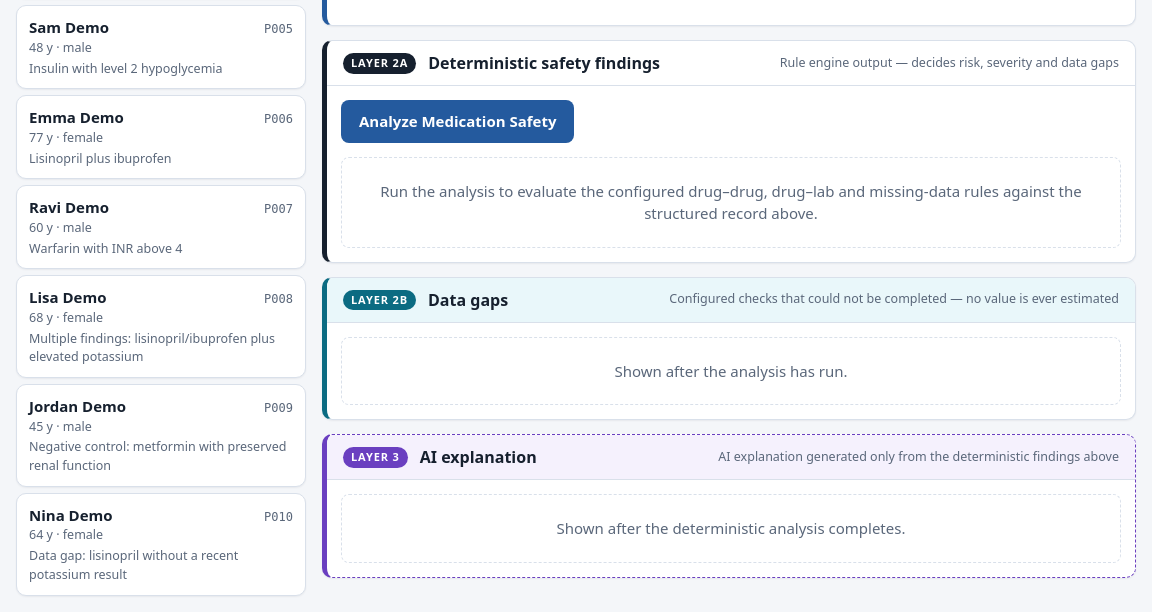
it: analysis › P008: two findings, HIGH grouped before MODERATE, with full provenance fields
The image size is (1152, 612).
(page scrolled)
Click the button "Lisa Demo": [161, 327] box [16, 275, 306, 378]
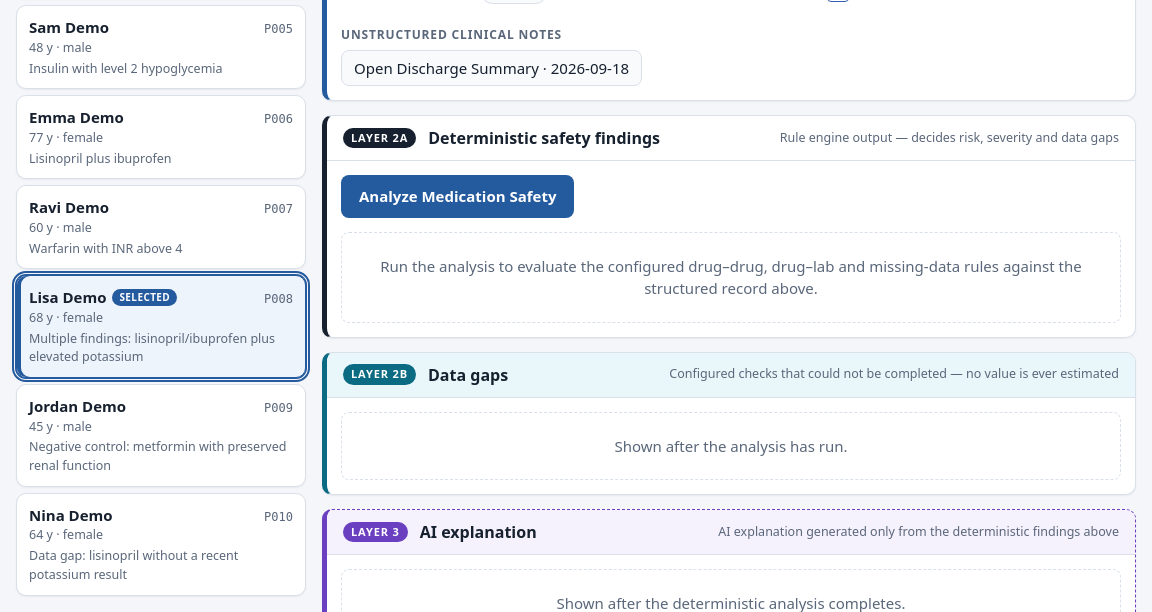
Click the button "Analyze Medication Safety": [458, 196] box [341, 175, 574, 218]
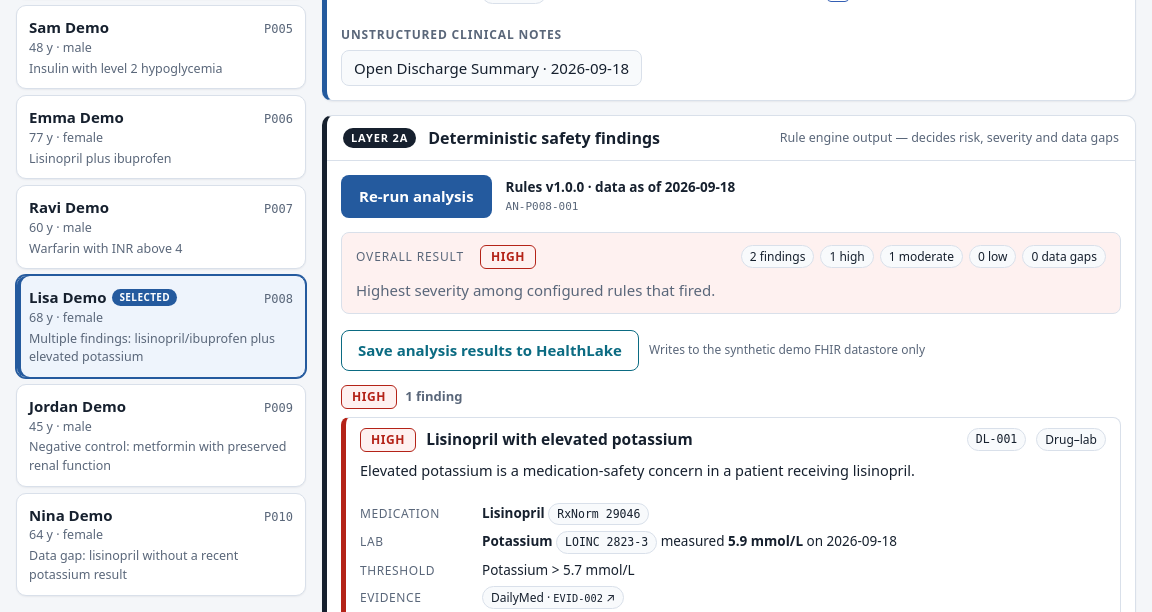
Result: the element named "HIGH finding DL-001" shows "Lisinopril with elevated potassium" at [426, 428, 693, 450]
Result: the element named "HIGH finding DL-001" shows "EVID-002" at [482, 586, 624, 609]
Result: the text "2 findings" is shown at [741, 245, 814, 268]
